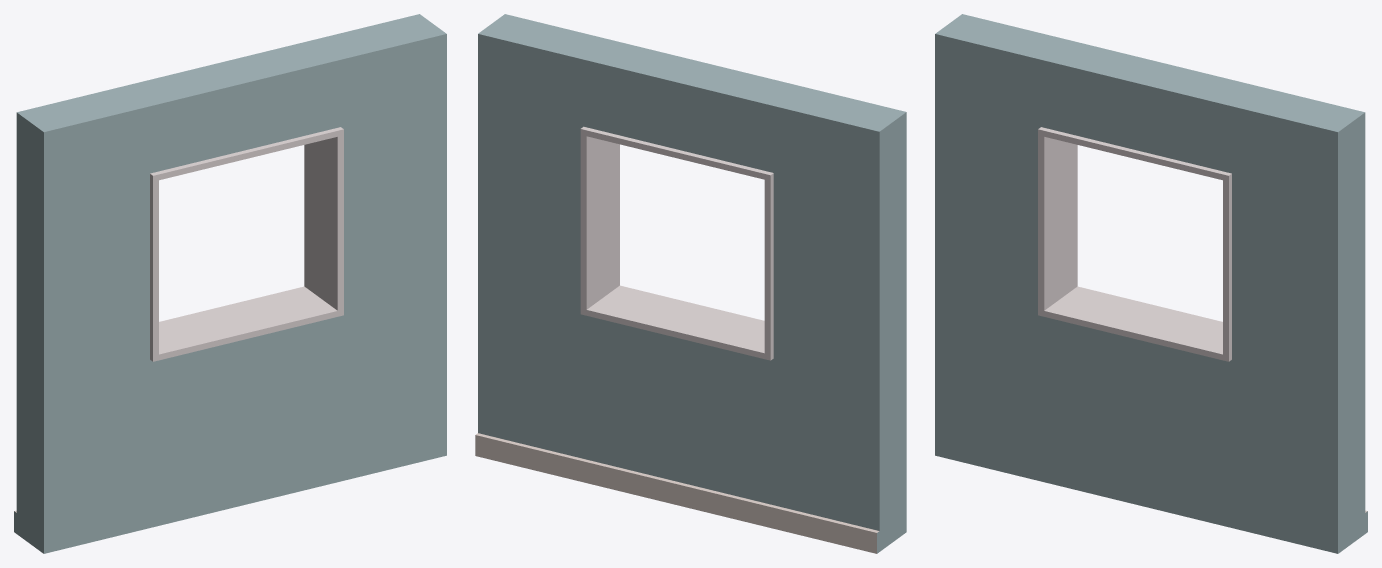
Rendered from Window.fbx.
3 renders of one model, left to right at view 1: azimuth 30°, elevation 25°; view 2: azimuth 150°, elevation 25°; view 3: azimuth 330°, elevation 25°, orthographic.
Parts seen in each view (by area): view 1: Window; view 2: Window; view 3: Window.
Part boxes in pixels (x1,y1,x2,y2): Window: (14, 14, 446, 553); Window: (475, 14, 906, 553); Window: (935, 14, 1367, 553).
Bounding box in the file's own units: 2 × 0.2871 × 2.
